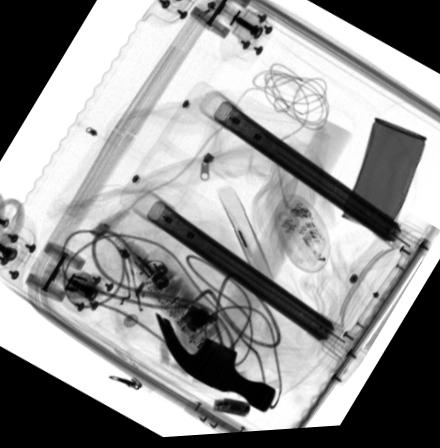Hammer: (155, 122, 352, 416)
